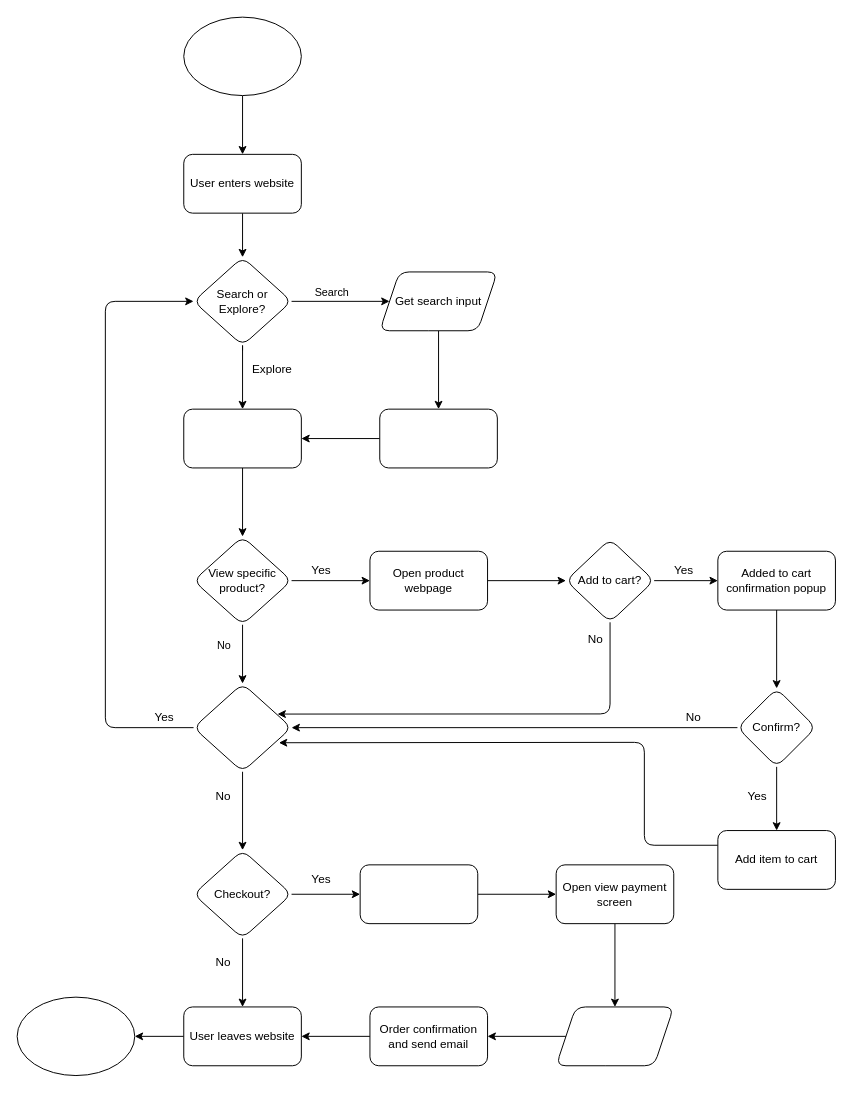
Image size: 853x1093. Some labels were removed from this diagram. Here are the shapes that lost their labels. From the top down, the centre of each, then its label:
At pixel 242 56: "Start".
At pixel 242 438: "User looks over products".
At pixel 438 438: "Open search results webpage".
At pixel 242 727: "Continue Shopping?".
At pixel 418 894: "Open view cart screen".
At pixel 75 1036: "End".
At pixel 614 1036: "Get payment input".
